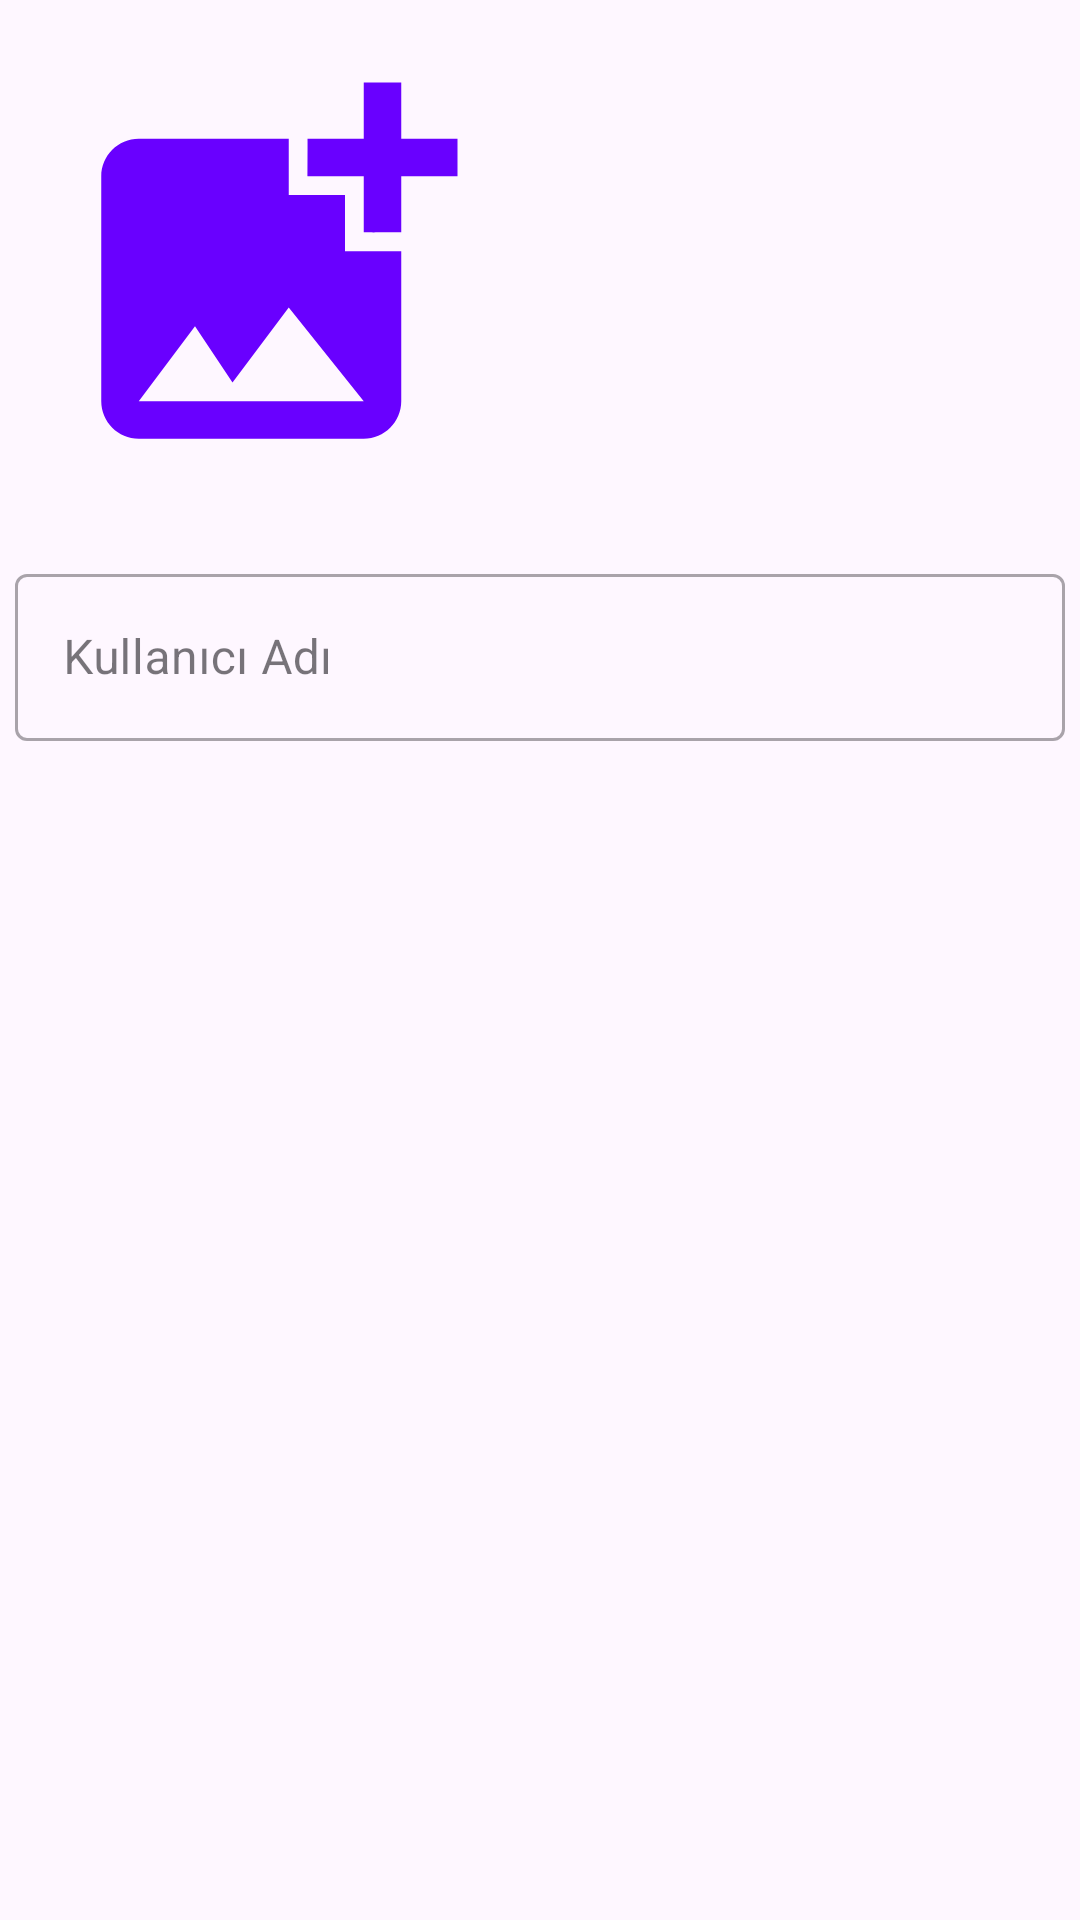

Named icons in this screenshot (1080 × 1920) and their centers, (x,y):
Post Resim: (279,260)
